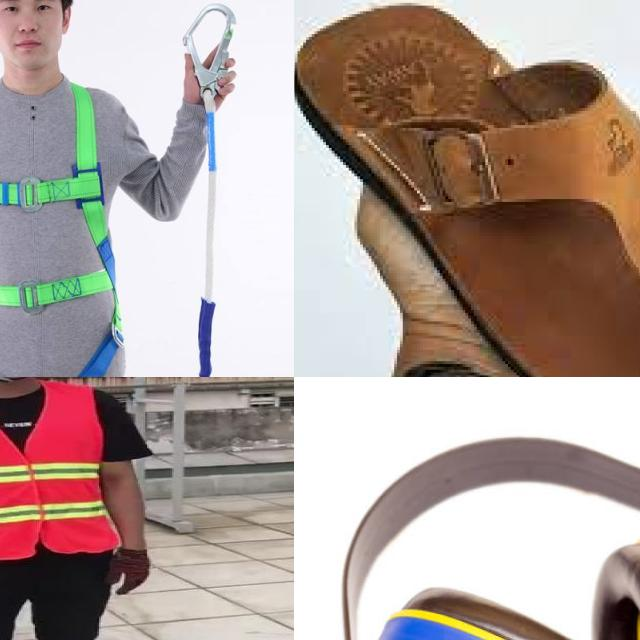Ear-protection: (315, 421, 640, 640)
Harness: (0, 83, 121, 377), (180, 2, 238, 117)
No_Ear-Protection: (61, 4, 72, 36)
No_Glasses: (0, 0, 60, 19)
Sandals: (294, 0, 640, 377)
person: (0, 377, 170, 640)
vest: (0, 385, 113, 558)
